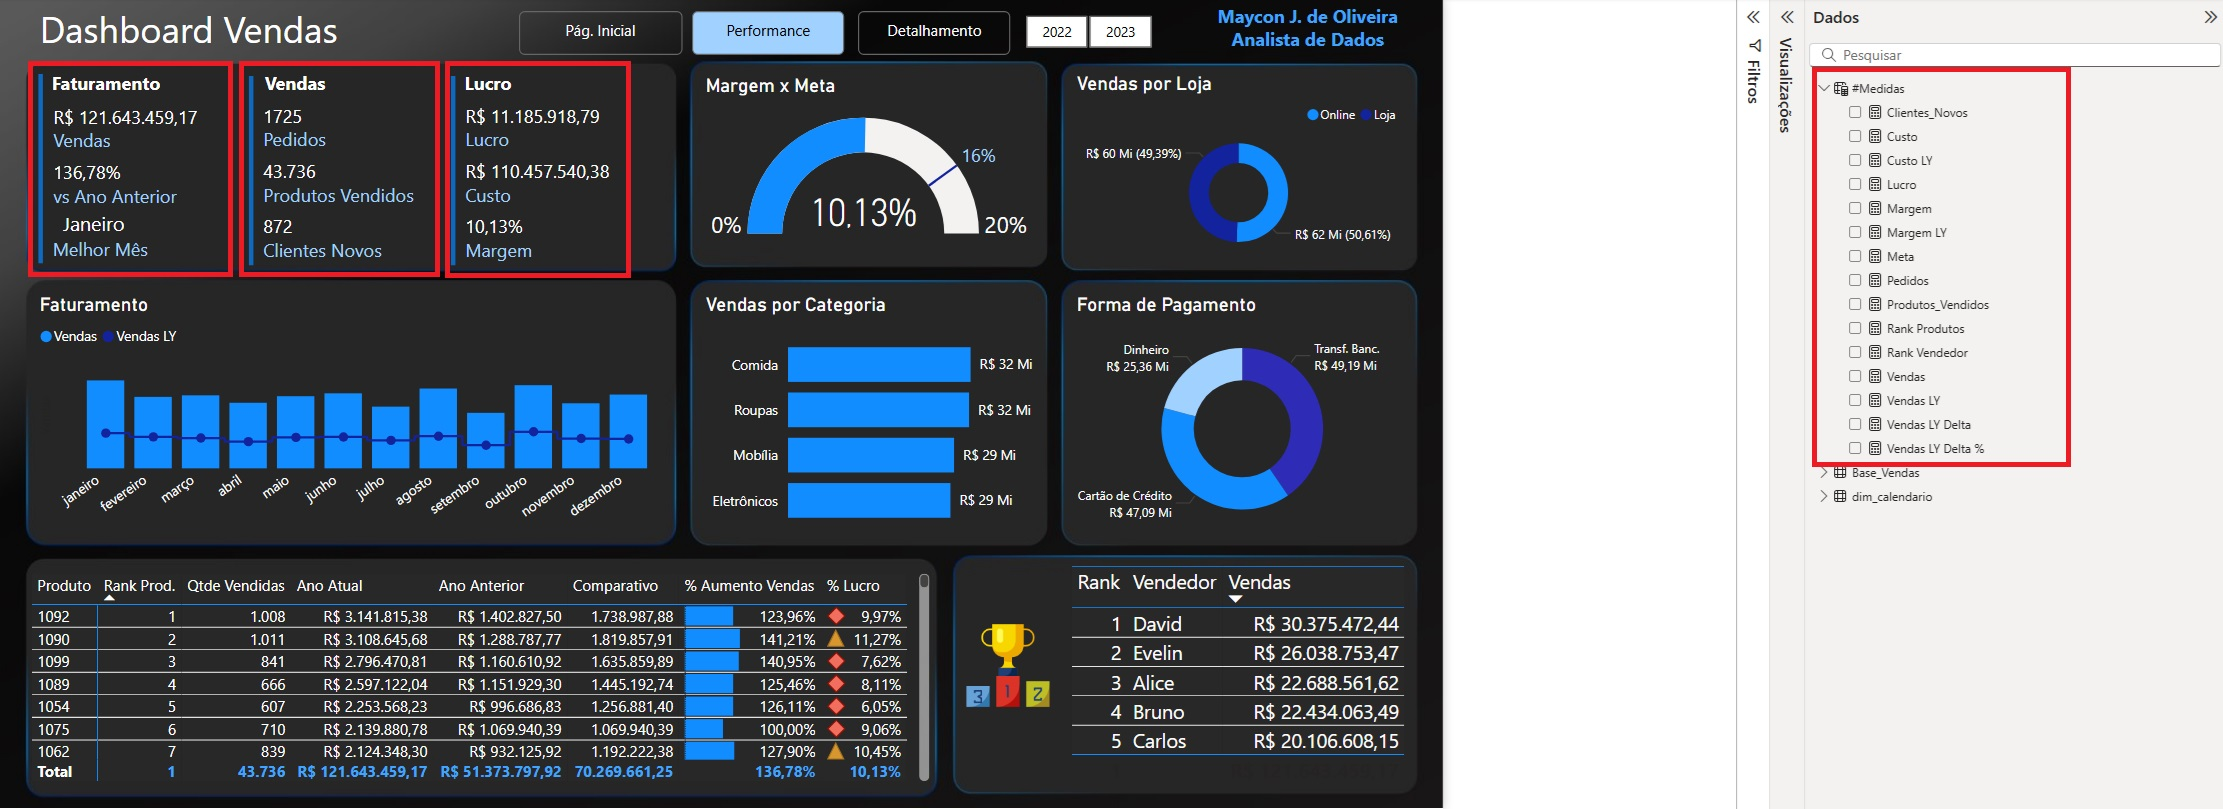

This screenshot's page, from the dashboard's own definition file:
{"tool":"powerbi","page":{"name":"Performance","canvas":[1280,720],"ordinal":1},"visuals":[{"type":"gauge","title":"Margem x Meta","fields":{"Y":["#Medidas.Margem"],"TargetValue":["#Medidas.Meta"]},"box":[621.8,67.3,300.9,166.4],"z":0},{"type":"lineStackedColumnComboChart","title":"Faturamento","fields":{"Y":["#Medidas.Faturamento"],"Y2":["#Medidas.Vendas LY"],"Category":["dim_calendario.Date.Variation.Hierarquia de datas.Mês"]},"box":[30.9,261.8,566.4,214.5],"z":1000},{"type":"barChart","fields":{"Y":["#Medidas.Vendas"],"Category":["Vendas.Categoria"]},"box":[621.8,261.8,308.2,221.8],"z":2000},{"type":"donutChart","fields":{"Y":["#Medidas.Vendas"],"Category":["Vendas.Loja"]},"box":[950.9,65.5,297.3,168.2],"z":3000},{"type":"pivotTable","fields":{"Rows":["Base_Vendas.Produto_ID"],"Values":["#Medidas.Rank Produtos","#Medidas.Produtos_Vendidos","#Medidas.Vendas","#Medidas.Vendas LY","#Medidas.Vendas LY Delta","#Medidas.Vendas LY Delta %","#Medidas.Margem"]},"box":[23.9,505.4,806,194.2],"z":4000},{"type":"donutChart","title":"Forma de Pagamento","fields":{"Category":["Vendas.Pagamento"],"Y":["#Medidas.Vendas"]},"box":[950.9,261.8,303.6,221.8],"z":5000},{"type":"multiRowCard","fields":{"Values":["#Medidas.Vendas","#Medidas.Vendas LY Delta %"]},"box":[30.9,90,156.4,171.8],"z":6000},{"type":"multiRowCard","fields":{"Values":["#Medidas.Pedidos","#Medidas.Produtos_Vendidos","#Medidas.Clientes_Novos"]},"box":[217.3,89.1,178.2,172.7],"z":7000},{"type":"multiRowCard","fields":{"Values":["#Medidas.Profit/Lucro","#Medidas.Custo Vendas","#Medidas.Margem Bruta"]},"box":[396.4,89.1,164.5,160.9],"z":8000},{"type":"card","fields":{"Values":["Min(dim_calendario.Nome do Mês)"]},"box":[17.3,184.5,133.6,36.4],"z":9000},{"type":"slicer","fields":{"Values":["dim_calendario.Ano"]},"box":[884.5,9.1,160.9,41.8],"z":10000},{"type":"textbox","box":[30.9,0,364.5,59.1],"z":11000},{"type":"textbox","box":[37.3,59.1,527.3,39.1],"z":12000},{"type":"textbox","box":[42.3,206.6,108.4,44],"z":13000},{"type":"shape","box":[30.9,67.3,11.8,168.2],"z":14000},{"type":"shape","box":[217.3,69.1,12.7,168.2],"z":15000},{"type":"shape","box":[396.4,69.1,12.7,168.2],"z":16000},{"type":"tableEx","fields":{"Values":["#Medidas.Rank Vendedor","Base_Vendas.Vendedor","#Medidas.Vendas"]},"box":[945.2,498.3,308.6,221.7],"z":17000},{"type":"textbox","box":[1045.5,0,234.5,59.1],"z":18000},{"type":"textbox","box":[614.5,11.8,135.5,39.1],"z":19000},{"type":"textbox","box":[761.8,11.8,135.5,39.1],"z":20000},{"type":"image","box":[851.8,505.5,85.5,172.7],"z":21000},{"type":"textbox","box":[461.1,11.5,144.5,39],"z":22000},{"type":"actionButton","box":[461.1,11.3,145.1,40.3],"z":23000},{"type":"actionButton","box":[762.5,11.3,135.4,40.3],"z":24000}]}

Visuals, with their boxes on the page's 1280x720 design canvas (x1, y1, x2, y2). These are canvas units, not pixel positions in the 2223x809 screenshot, which may show the page scaled, cropped or inside an application window:
"Margem x Meta" gauge: <region>622, 67, 923, 234</region>
"Faturamento" lineStackedColumnComboChart: <region>31, 262, 597, 476</region>
barChart - #Medidas.Vendas x Vendas.Categoria: <region>622, 262, 930, 484</region>
donutChart - #Medidas.Vendas x Vendas.Loja: <region>951, 66, 1248, 234</region>
pivotTable - Base_Vendas.Produto_ID x #Medidas.Rank Produtos: <region>24, 505, 830, 700</region>
"Forma de Pagamento" donutChart: <region>951, 262, 1254, 484</region>
multiRowCard - #Medidas.Vendas x #Medidas.Vendas LY Delta %: <region>31, 90, 187, 262</region>
multiRowCard - #Medidas.Pedidos x #Medidas.Produtos_Vendidos: <region>217, 89, 396, 262</region>
multiRowCard - #Medidas.Profit/Lucro x #Medidas.Custo Vendas: <region>396, 89, 561, 250</region>
card - Min(dim_calendario.Nome do Mês): <region>17, 184, 151, 221</region>
slicer - dim_calendario.Ano: <region>884, 9, 1045, 51</region>
textbox: <region>31, 0, 395, 59</region>
textbox: <region>37, 59, 565, 98</region>
textbox: <region>42, 207, 151, 251</region>
shape: <region>31, 67, 43, 236</region>
shape: <region>217, 69, 230, 237</region>
shape: <region>396, 69, 409, 237</region>
tableEx - #Medidas.Rank Vendedor x Base_Vendas.Vendedor: <region>945, 498, 1254, 720</region>
textbox: <region>1046, 0, 1280, 59</region>
textbox: <region>614, 12, 750, 51</region>
textbox: <region>762, 12, 897, 51</region>
image: <region>852, 506, 937, 678</region>
textbox: <region>461, 12, 606, 50</region>
actionButton: <region>461, 11, 606, 52</region>
actionButton: <region>762, 11, 898, 52</region>
